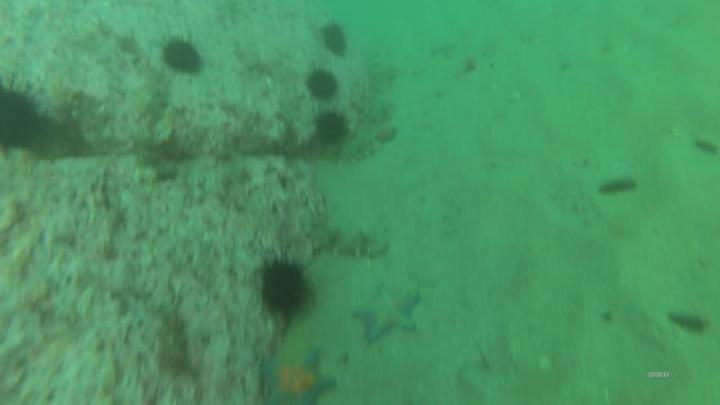echinus: (1, 83, 48, 149), (261, 258, 311, 314), (300, 65, 349, 103), (311, 108, 354, 150), (162, 36, 204, 77), (320, 20, 350, 55)
holothurian: (310, 216, 389, 261)
starfish: (261, 349, 339, 405), (351, 283, 423, 341), (372, 125, 401, 146)
